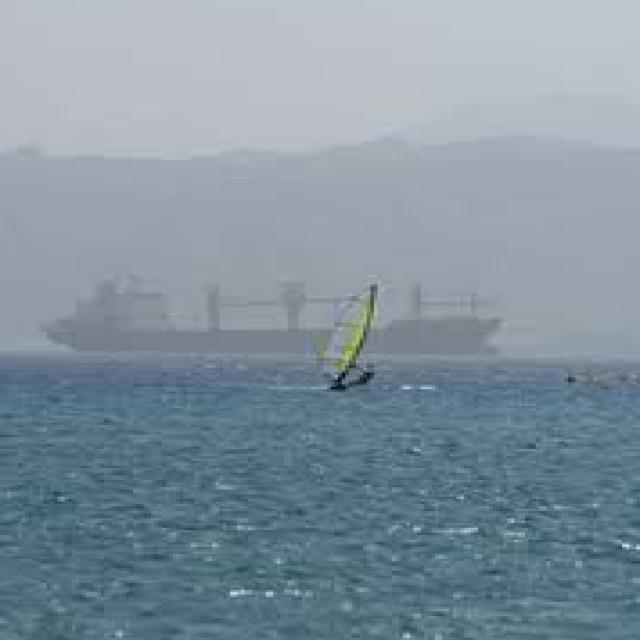cargoship: (38, 268, 514, 358), (303, 280, 396, 394)
